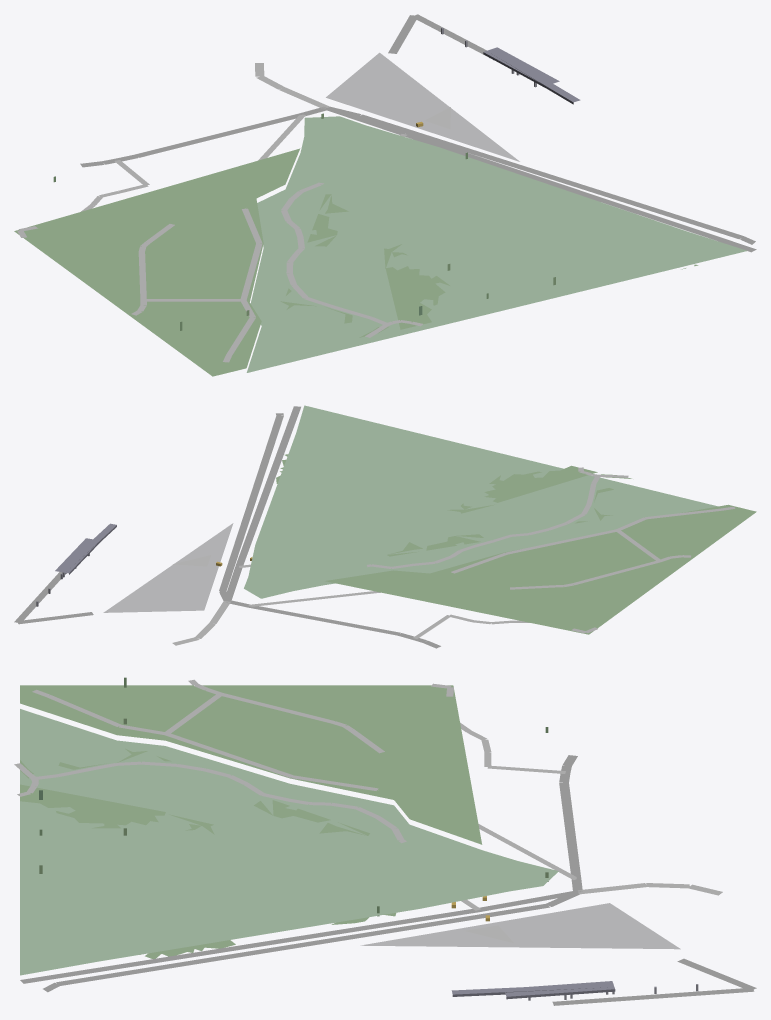
3 views of the same model, one above another, from view 1: azimuth 30°, elevation 25°; view 2: azimuth 150°, elevation 25°; view 3: azimuth 270°, elevation 25° (orthographic). The views are drawn at different scales.
Bounding box in the file's own units: 513 × 27.57 × 529.
